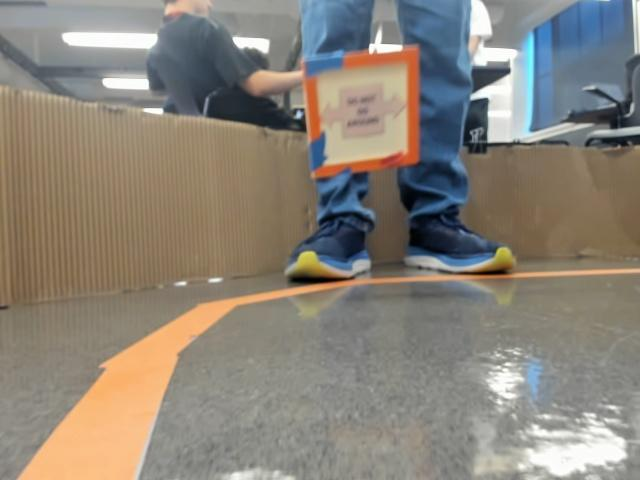Do Not Go Around: (315, 91, 400, 140)
